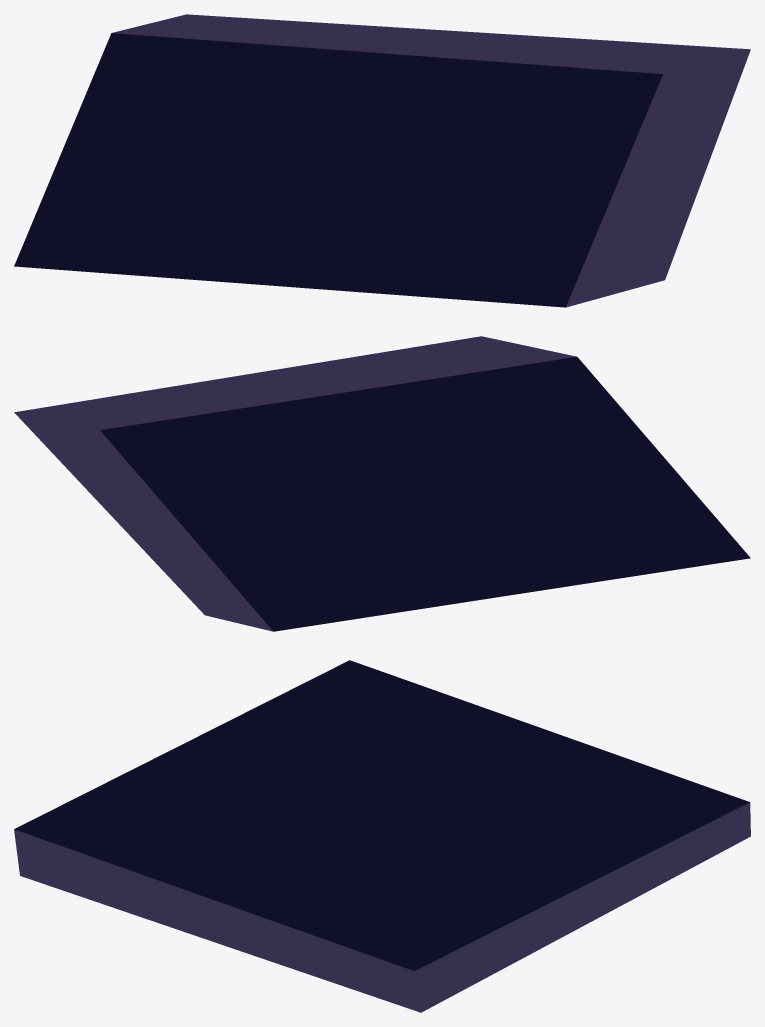
The picture shows the model from 3 angles, top to bottom: view 1: azimuth 30°, elevation 25°; view 2: azimuth 150°, elevation 25°; view 3: azimuth 270°, elevation 25°; orthographic projection. The views are drawn at different scales.
Parts seen in each view (by area): view 1: Joint_0_Object_0; view 2: Joint_0_Object_0; view 3: Joint_0_Object_0.
Part boxes in pixels (x1,y1,x2,y2): Joint_0_Object_0: (14, 14, 750, 307); Joint_0_Object_0: (14, 336, 750, 631); Joint_0_Object_0: (14, 660, 750, 1012).
Bounding box in the file's own units: 598 × 0 × 528.
Materials: 1 (1 with a texture image).
